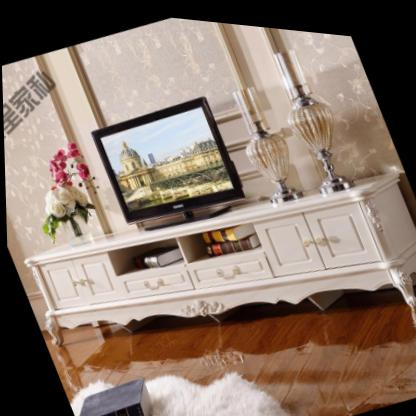TV stand: (22, 164, 416, 348)
Wooden floor: (40, 283, 416, 416)
